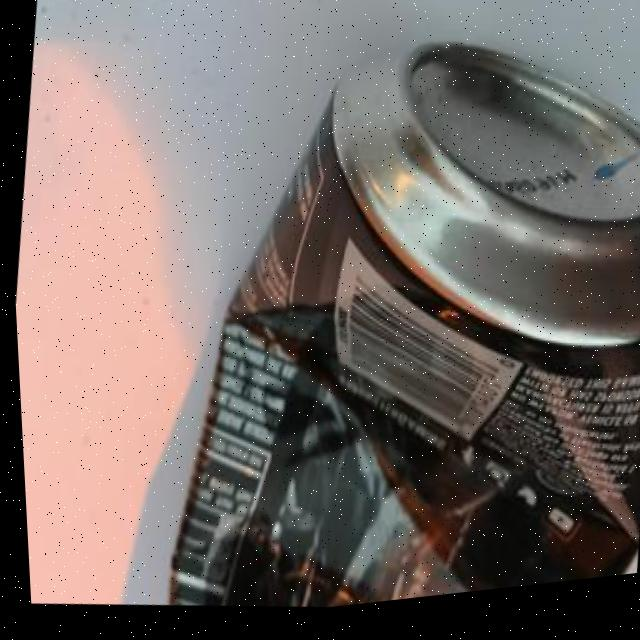metal: (123, 0, 640, 629)
